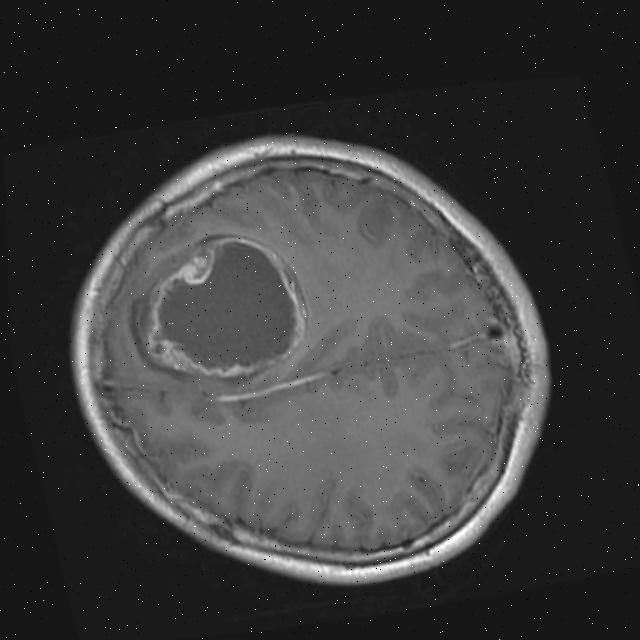Glioma: (117, 213, 321, 400)
